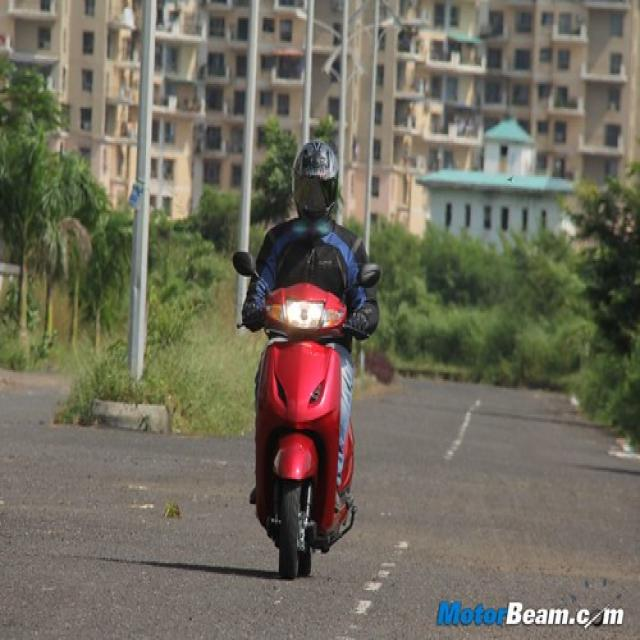helmet: (297, 122, 337, 222)
